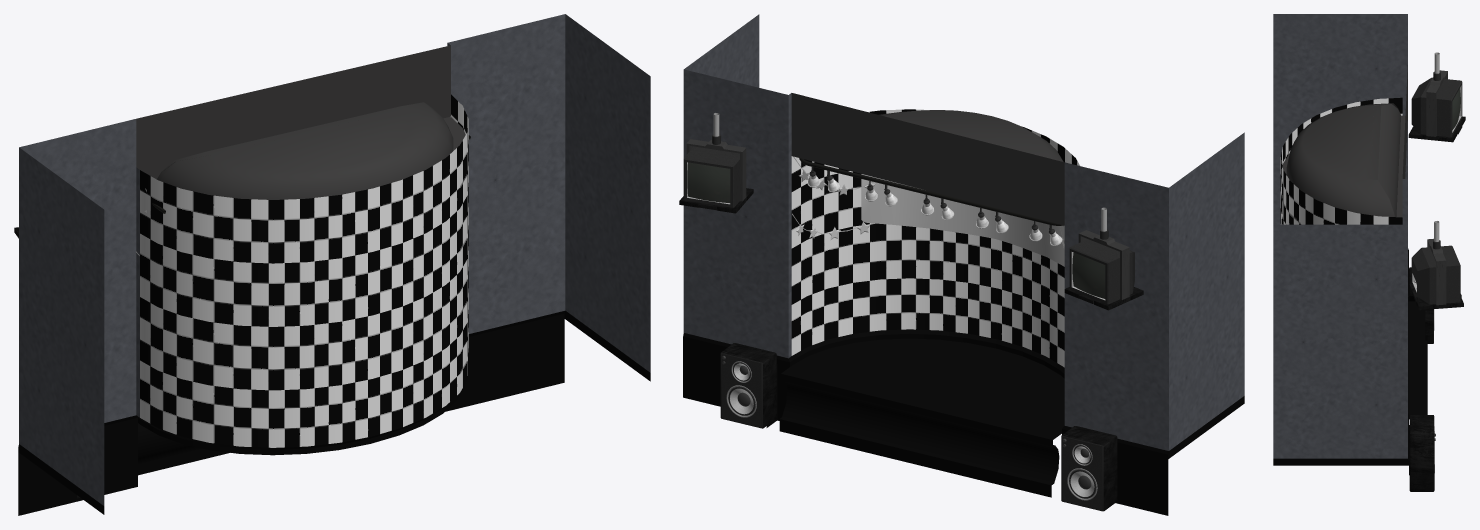
Rendered from FNaF 2 Game Stage.fbx.
3 views of the same model, side by side, from view 1: azimuth 30°, elevation 25°; view 2: azimuth 150°, elevation 25°; view 3: azimuth 270°, elevation 25° (orthographic). The views are drawn at different scales.
Visible parts, largest first — view 1: Cylinder.040, Cylinder.041; view 2: Cylinder.040, Cylinder.041, Plane.001, TV.007, TV.006, Circle.019, Circle.088, aa.004; view 3: Cylinder.040, Cylinder.041, TV.007, TV.006, Circle.088, Circle.019.
Part boxes in pixels (x1,y1,x2,y2): Cylinder.040: (18,14,650,515); Cylinder.041: (136,45,465,199); Cylinder.040: (683,14,1244,515); Cylinder.041: (791,93,1064,225); Plane.001: (861,174,1064,266); TV.007: (1064,207,1143,310); TV.006: (679,113,753,213); Circle.019: (1061,426,1117,511); Circle.088: (720,343,776,428); aa.004: (799,158,1063,225); Cylinder.040: (1273,14,1427,465); Cylinder.041: (1282,65,1407,217); TV.007: (1408,52,1465,142); TV.006: (1409,221,1463,310); Circle.088: (1409,415,1435,491); Circle.019: (1409,267,1434,343).
Bounding box in the file's own units: 541 × 349 × 209.
